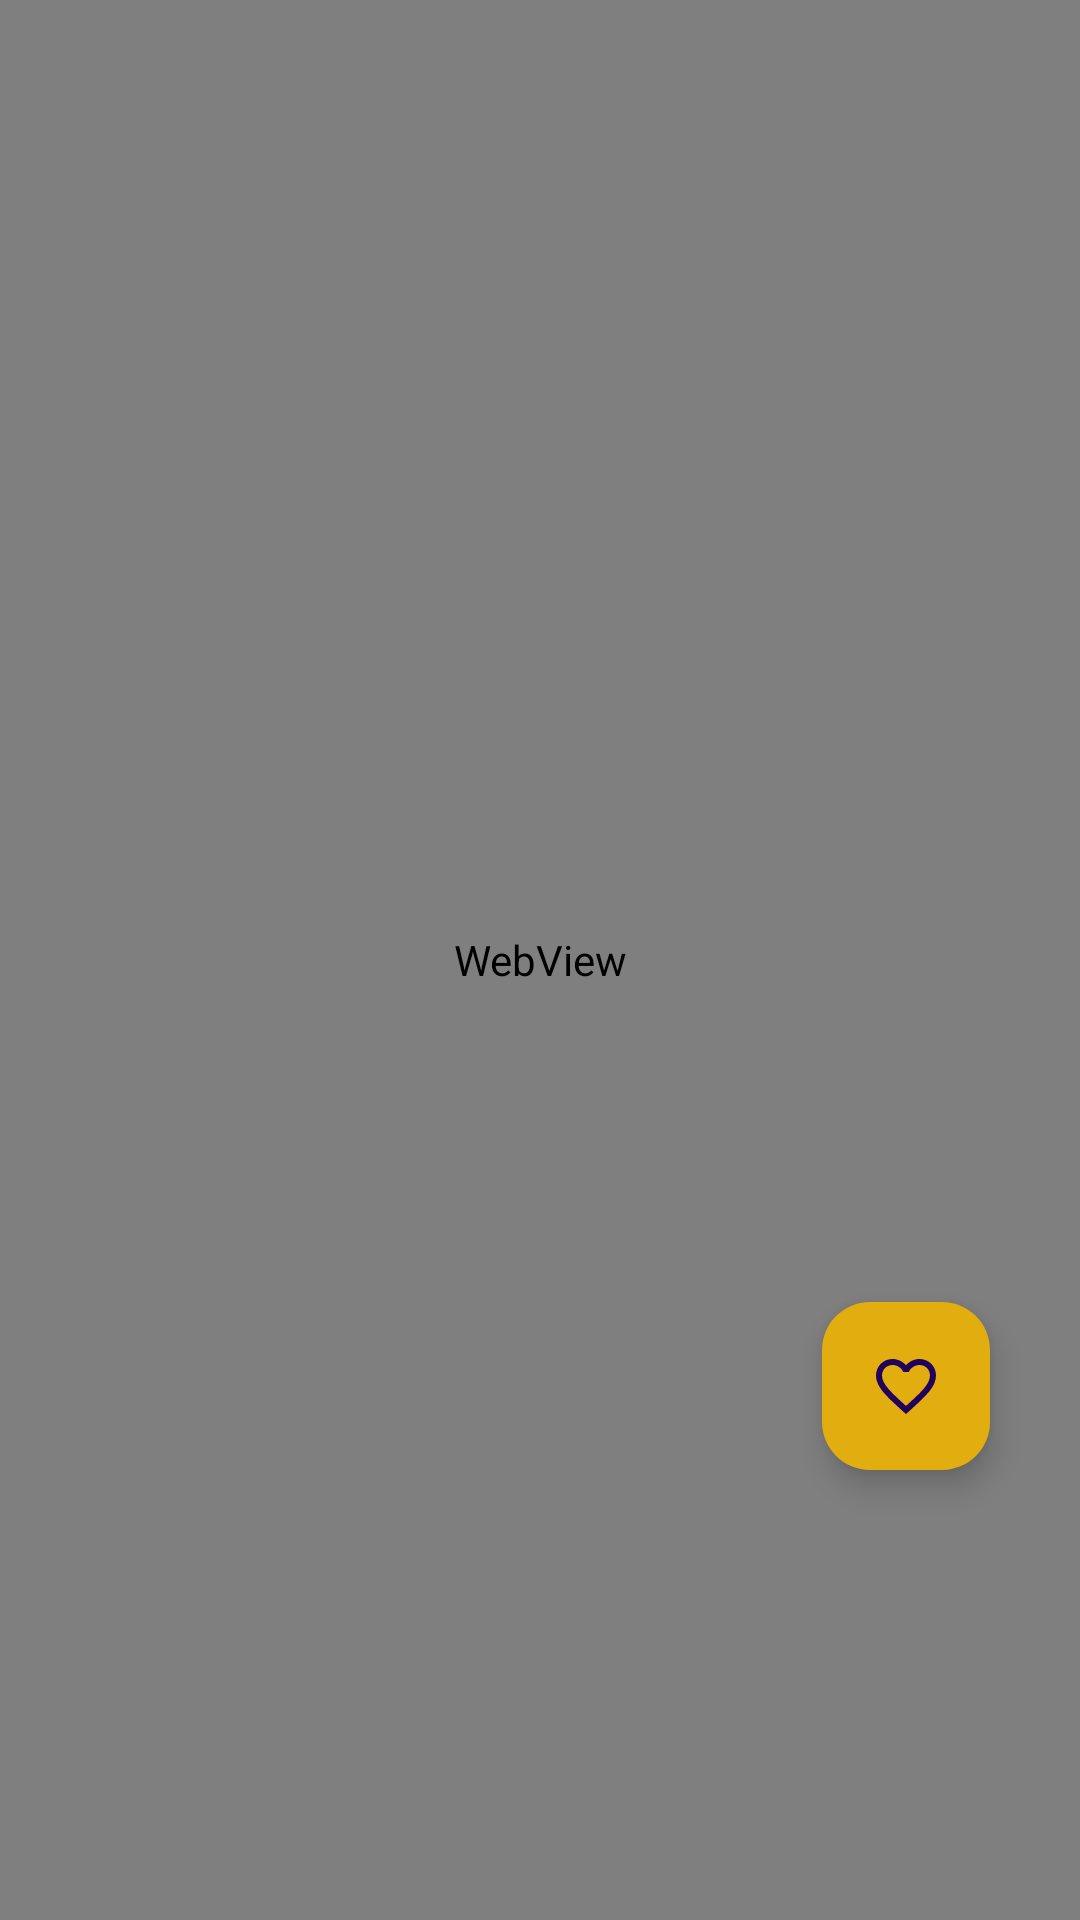

Named icons in this screenshot (1080 x 1920) and their centers, [x,y]:
favourites: [906,1386]
